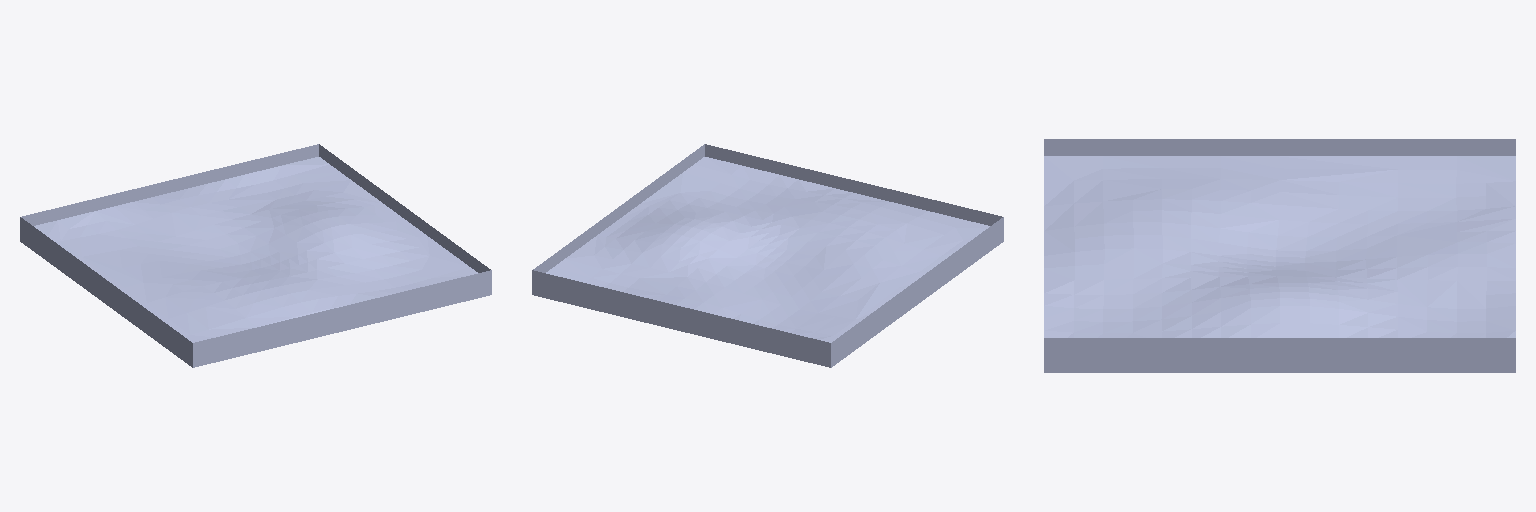
The robot description file, URDF, robot "liangcang":
<?xml version="1.0" encoding="utf-8"?>
<!-- This URDF was automatically created by SolidWorks to URDF Exporter! Originally created by [author] ([email redacted]) 
     Commit Version: 1.6.0-4-g7f85cfe  Build Version: 1.6.7995.38578
     For more information, please see http://wiki.ros.org/sw_urdf_exporter -->
<robot
  name="liangcang">
  <link
    name="base_link">
    <inertial>
      <origin
        xyz="0.39198 -0.94386 -1.0196"
        rpy="0 0 0" />
      <mass
        value="5344900" />
      <inertia
        ixx="1058500000"
        ixy="-54294000"
        ixz="-3044000"
        iyy="1090400000"
        iyz="5223300"
        izz="2143600000" />
    </inertial>
    <visual>
      <origin
        xyz="0 0 0"
        rpy="0 0 0" />
      <geometry>
        <mesh
          filename= "package://shigu_gazebo/worlds/my_world/base_link.STL"/>
      </geometry>
      <material
        name="">
        <color
          rgba="0.79216 0.81961 0.93333 1" />
      </material>
    </visual>
    <collision>
      <origin
        xyz="0 0 0"
        rpy="0 0 0" />
      <geometry>
        <mesh
          filename= "package://shigu_gazebo/worlds/my_world/base_link.STL"/>
      </geometry>
    </collision>
  </link>
  
  <gazebo reference="base_link">
        <material>Gazebo/Orange</material>    
  </gazebo>
  
</robot>

--- Facts derived from the render (not from the file) ---
3 views of the same robot in one strip: view 1: azimuth 30°, elevation 25°; view 2: azimuth 150°, elevation 25°; view 3: azimuth 270°, elevation 25° (orthographic).
Robot: liangcang — 1 links, 0 joints (none); root link base_link; default pose: every joint at zero.
Visible links, largest first — view 1: base_link; view 2: base_link; view 3: base_link.
Boxes of the visible links, x1,y1,x2,y2 form: base_link: (20, 144, 491, 367); base_link: (532, 144, 1003, 367); base_link: (1044, 139, 1515, 372).
Bounding box of the posed robot: 50 × 50 × 4 m (x, y, z).
Meshes: 1 distinct files referenced, 1 mesh visuals loaded (1 binary STL).
